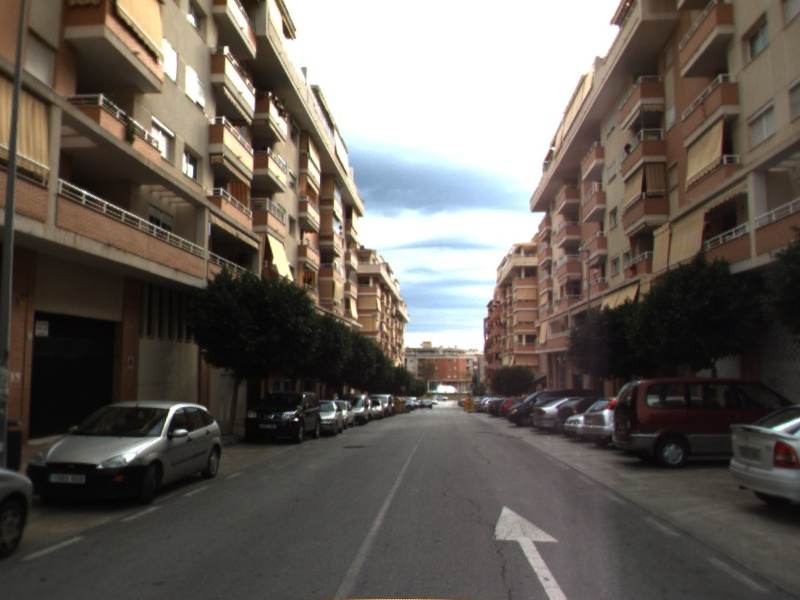STRAIGHT: (489, 503, 570, 600)
